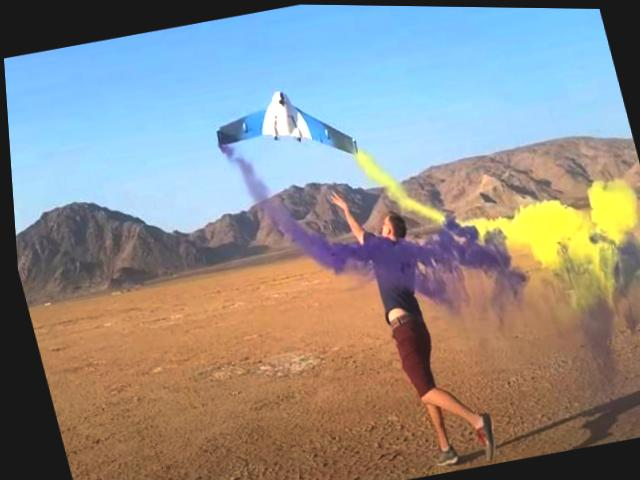iha: (196, 68, 362, 184)
